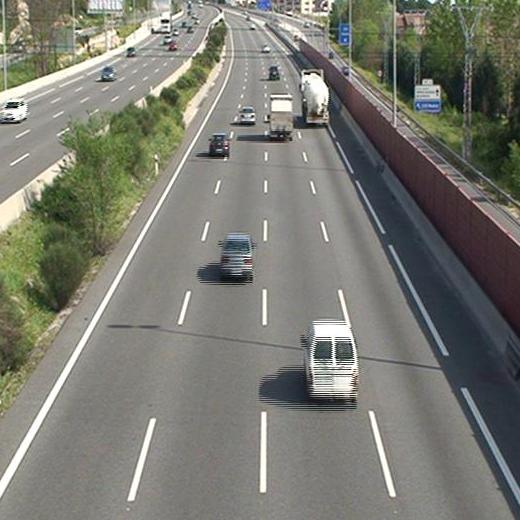car: (220, 235, 253, 278), (209, 133, 228, 156), (239, 106, 256, 122), (268, 66, 281, 78)
small-truck: (269, 93, 293, 139)
tank-truck: (300, 70, 328, 126)
van: (305, 318, 359, 400)
